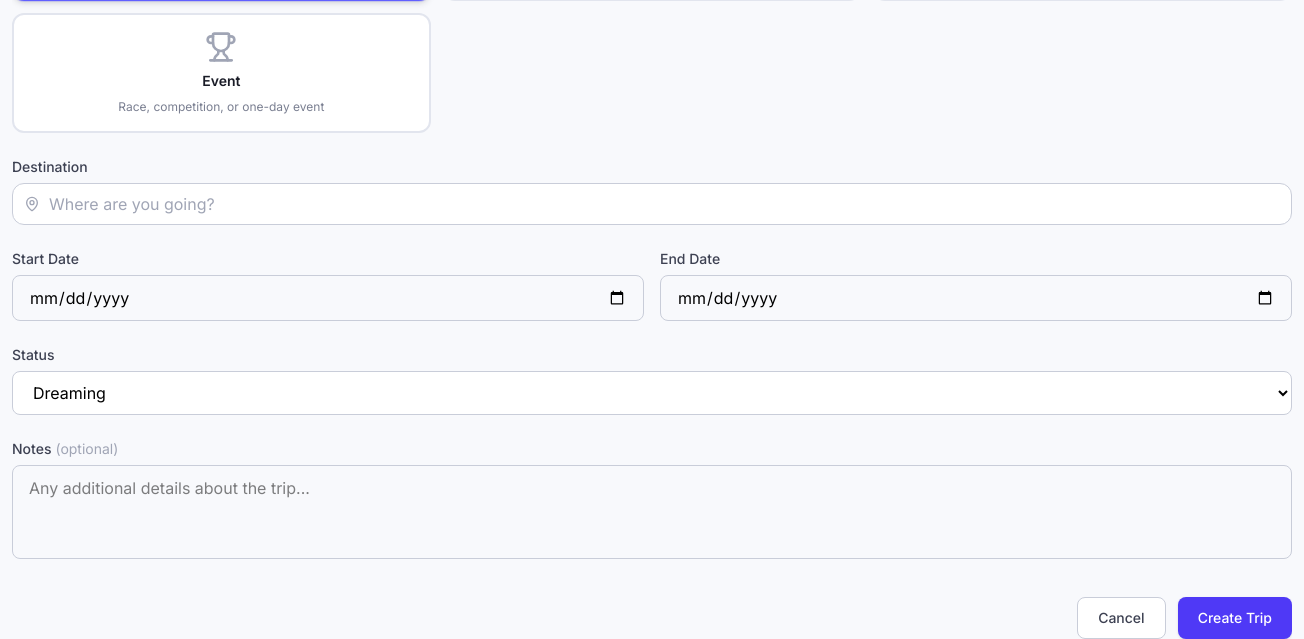
Test: TripForm › shows validation error when submitting without destination
The image size is (1304, 639).
(page scrolled)
What coordinates should you click on to do the following:
click the button "Create Trip"
I would click on:
 (1235, 618)
Its box is [1178, 597, 1292, 638].
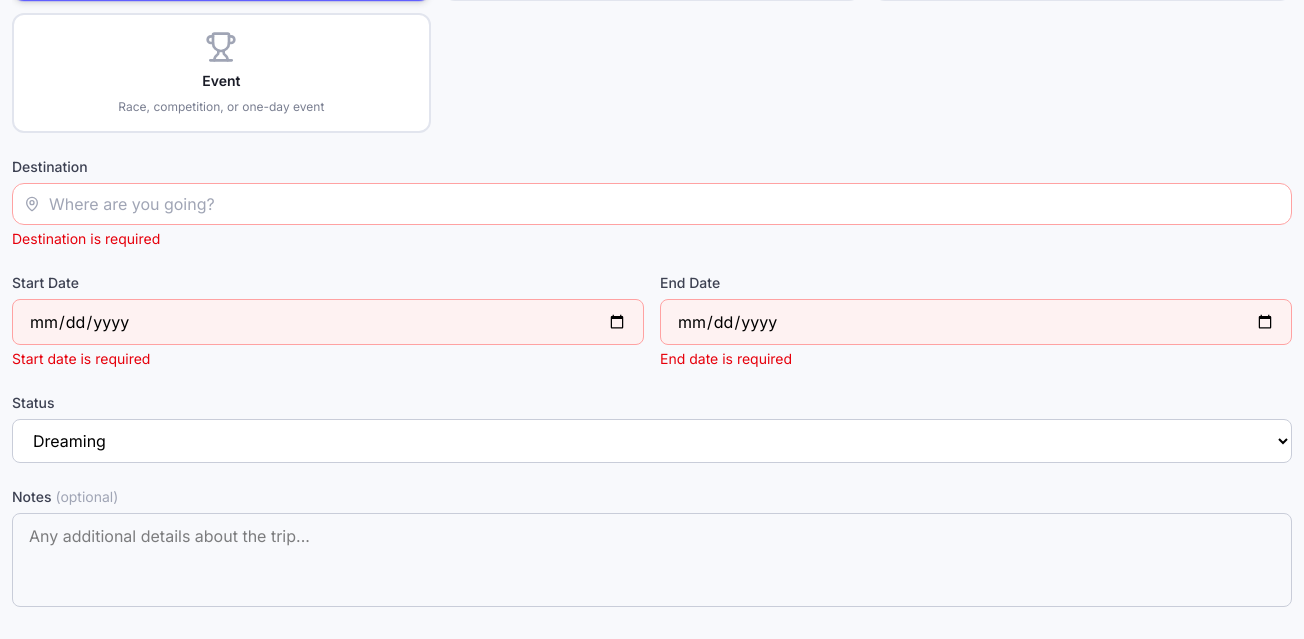
Check: the text "Destination is required" is shown, box [12, 230, 160, 247]
